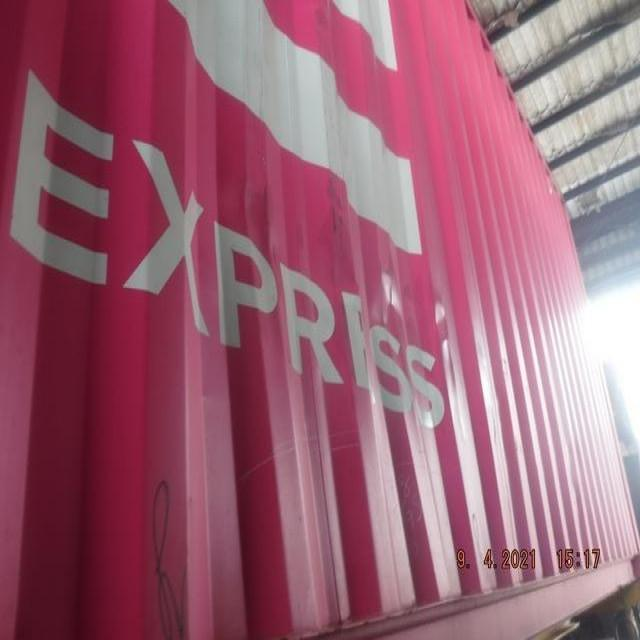Dent: (193, 140, 476, 425)
